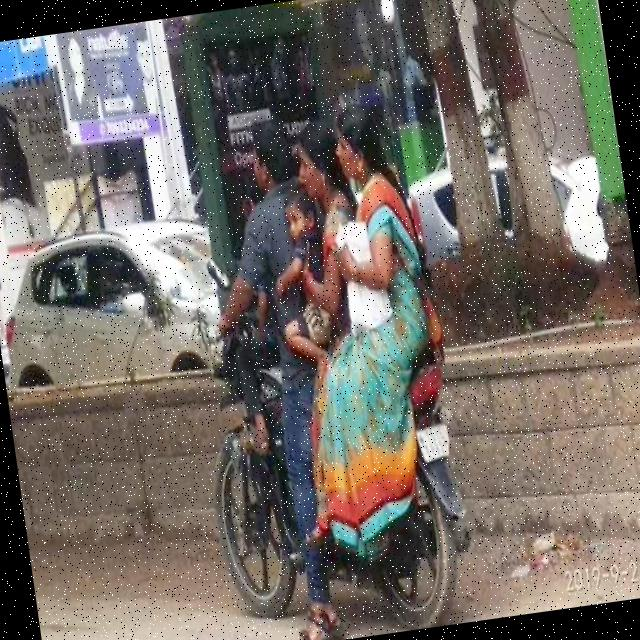Triple riding: (236, 86, 454, 427)
